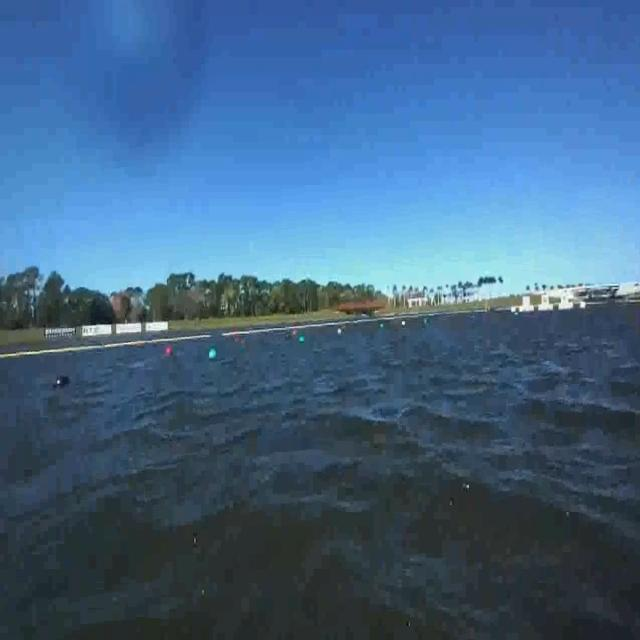black-buoy: (48, 366, 70, 394)
green-buoy: (209, 348, 217, 360)
red-buoy: (162, 340, 178, 364)
